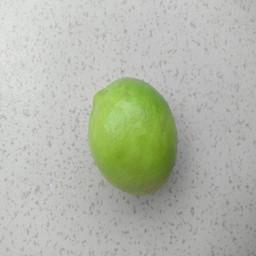Good_lime: (88, 75, 178, 197)
